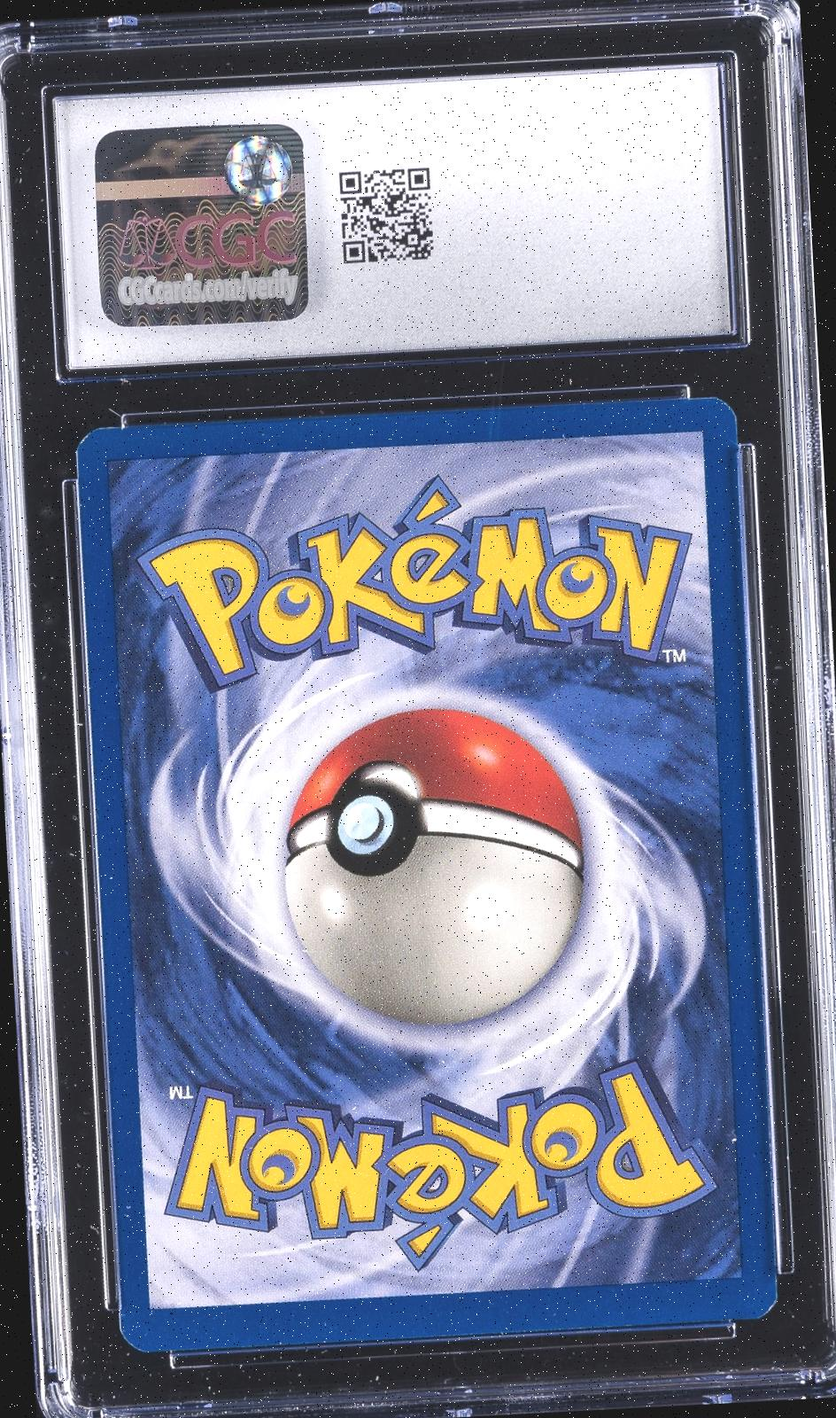card-2UtV: (74, 395, 779, 1353)
